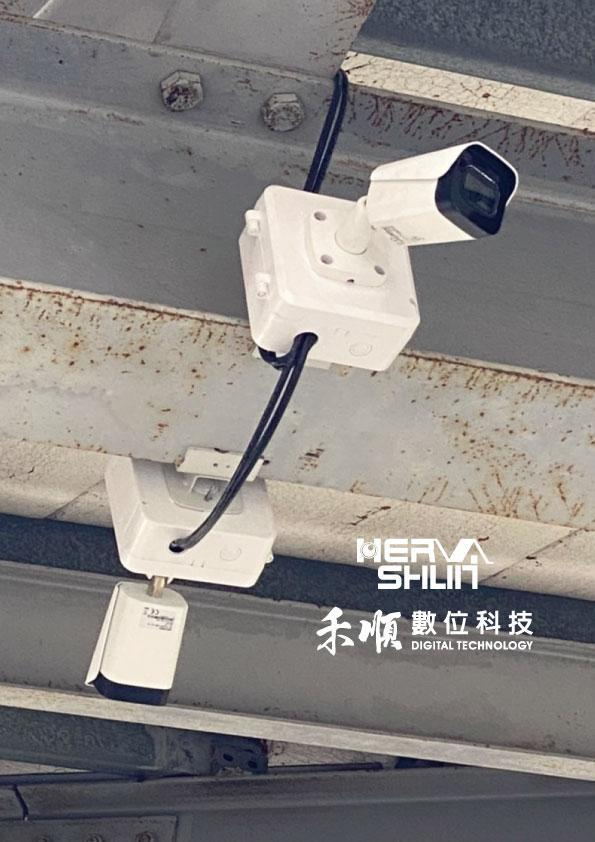Monitor: (240, 146, 544, 377)
